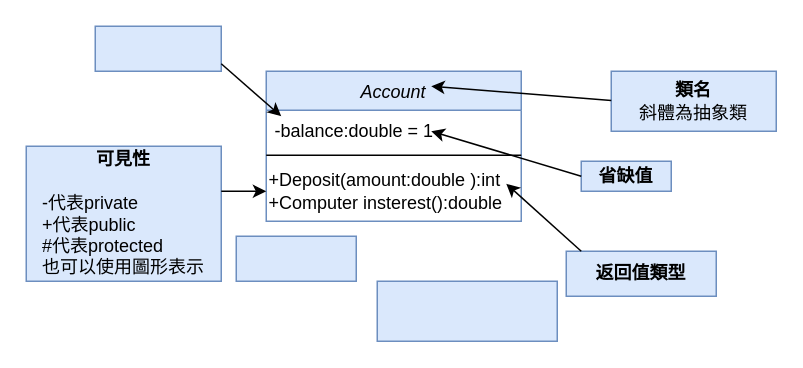
Image size: 803x368. Some labels were removed from this diagram. The shapes that lost their labels are listed below. From the top down, each one's centre as x and y in pixels, then its label:
At (157,48): "屬性名稱".
At (295,258): "參數列表".
At (466,310): "操作名稱 斜體為抽象操作".
